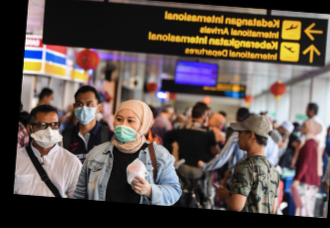with_mask: (110, 112, 143, 143), (31, 116, 61, 146), (72, 98, 98, 124)
without_mask: (234, 129, 247, 149)
